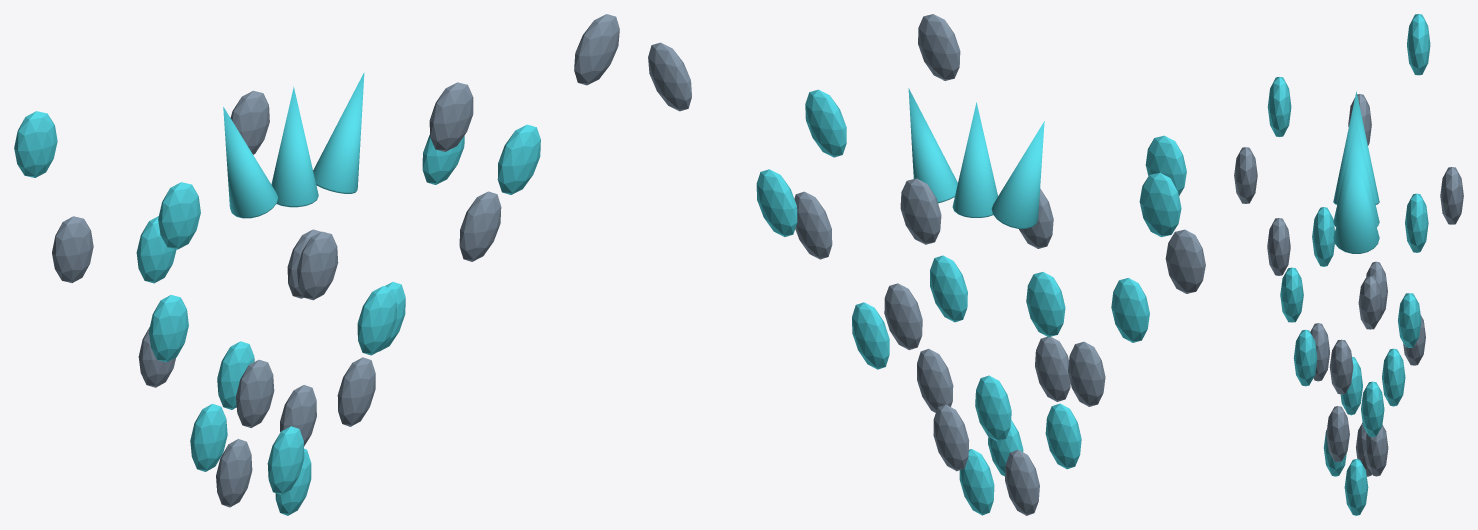
Rendered from swarm_v4.glb.
3 renders of one model, left to right at view 1: azimuth 30°, elevation 25°; view 2: azimuth 150°, elevation 25°; view 3: azimuth 270°, elevation 25°, orthographic. The views are drawn at different scales.
Parts seen in each view (by area): view 1: CROWN_HORN_ACCENT.002, CROWN_HORN_ACCENT, CROWN_HORN_ACCENT.001, SWARM_BODY_PRIMARY.011, SWARM_BODY_PRIMARY.010, SWARM_BODY_ACCENT.011, SWARM_BODY_ACCENT.010, SWARM_BODY_ACCENT.009, SWARM_BODY_PRIMARY.008, SWARM_BODY_PRIMARY.007, SWARM_BODY_PRIMARY.006, SWARM_BODY_ACCENT.006 (+14 smaller); view 2: CROWN_HORN_ACCENT, CROWN_HORN_ACCENT.001, CROWN_HORN_ACCENT.002, SWARM_BODY_PRIMARY.011, SWARM_BODY_PRIMARY.010, SWARM_BODY_ACCENT.011, SWARM_BODY_ACCENT.009, SWARM_BODY_PRIMARY.009, SWARM_BODY_ACCENT.008, SWARM_BODY_PRIMARY.008, SWARM_BODY_ACCENT.007, SWARM_BODY_PRIMARY.005 (+15 smaller); view 3: CROWN_HORN_ACCENT.002, CROWN_HORN_ACCENT.001, CROWN_HORN_ACCENT, SWARM_BODY_ACCENT.011, SWARM_BODY_ACCENT.010, SWARM_BODY_ACCENT.007, SWARM_BODY_ACCENT.006, SWARM_BODY_PRIMARY.009, SWARM_BODY_PRIMARY.007, SWARM_BODY_ACCENT.003, SWARM_BODY_PRIMARY.011, SWARM_BODY_ACCENT.005 (+15 smaller).
Part boxes in pixels (x1=…): CROWN_HORN_ACCENT.002: x1=313, y1=72, x2=364, y2=193; CROWN_HORN_ACCENT: x1=223, y1=107, x2=277, y2=218; CROWN_HORN_ACCENT.001: x1=271, y1=86, x2=318, y2=207; SWARM_BODY_PRIMARY.011: x1=429, y1=82, x2=473, y2=151; SWARM_BODY_PRIMARY.010: x1=574, y1=14, x2=619, y2=85; SWARM_BODY_ACCENT.011: x1=14, y1=111, x2=57, y2=177; SWARM_BODY_ACCENT.010: x1=158, y1=182, x2=200, y2=249; SWARM_BODY_ACCENT.009: x1=497, y1=124, x2=540, y2=194; SWARM_BODY_PRIMARY.008: x1=52, y1=216, x2=93, y2=282; SWARM_BODY_PRIMARY.007: x1=297, y1=231, x2=338, y2=300; SWARM_BODY_PRIMARY.006: x1=459, y1=191, x2=501, y2=261; SWARM_BODY_ACCENT.006: x1=149, y1=295, x2=188, y2=362; CROWN_HORN_ACCENT: x1=991, y1=121, x2=1044, y2=228; CROWN_HORN_ACCENT.001: x1=952, y1=102, x2=997, y2=217; CROWN_HORN_ACCENT.002: x1=908, y1=88, x2=957, y2=203; SWARM_BODY_PRIMARY.011: x1=918, y1=14, x2=960, y2=80; SWARM_BODY_PRIMARY.010: x1=648, y1=42, x2=691, y2=111; SWARM_BODY_ACCENT.011: x1=1139, y1=173, x2=1181, y2=237; SWARM_BODY_ACCENT.009: x1=805, y1=89, x2=846, y2=157; SWARM_BODY_PRIMARY.009: x1=900, y1=178, x2=941, y2=244; SWARM_BODY_ACCENT.008: x1=756, y1=169, x2=797, y2=236; SWARM_BODY_PRIMARY.008: x1=1165, y1=229, x2=1205, y2=293; SWARM_BODY_ACCENT.007: x1=1026, y1=272, x2=1065, y2=337; SWARM_BODY_PRIMARY.005: x1=884, y1=283, x2=922, y2=349; CROWN_HORN_ACCENT.002: x1=1333, y1=155, x2=1379, y2=253; CROWN_HORN_ACCENT.001: x1=1333, y1=121, x2=1379, y2=226; CROWN_HORN_ACCENT: x1=1333, y1=91, x2=1379, y2=204; SWARM_BODY_ACCENT.011: x1=1407, y1=14, x2=1430, y2=75; SWARM_BODY_ACCENT.010: x1=1267, y1=77, x2=1291, y2=136; SWARM_BODY_ACCENT.007: x1=1405, y1=193, x2=1428, y2=252; SWARM_BODY_ACCENT.006: x1=1312, y1=207, x2=1334, y2=266; SWARM_BODY_PRIMARY.009: x1=1440, y1=167, x2=1463, y2=224; SWARM_BODY_PRIMARY.007: x1=1267, y1=218, x2=1290, y2=275; SWARM_BODY_ACCENT.003: x1=1382, y1=348, x2=1405, y2=406; SWARM_BODY_PRIMARY.011: x1=1234, y1=147, x2=1257, y2=203; SWARM_BODY_ACCENT.005: x1=1293, y1=329, x2=1317, y2=386.
Bounding box in the file's own units: 3.15 × 2.35 × 1.17.
